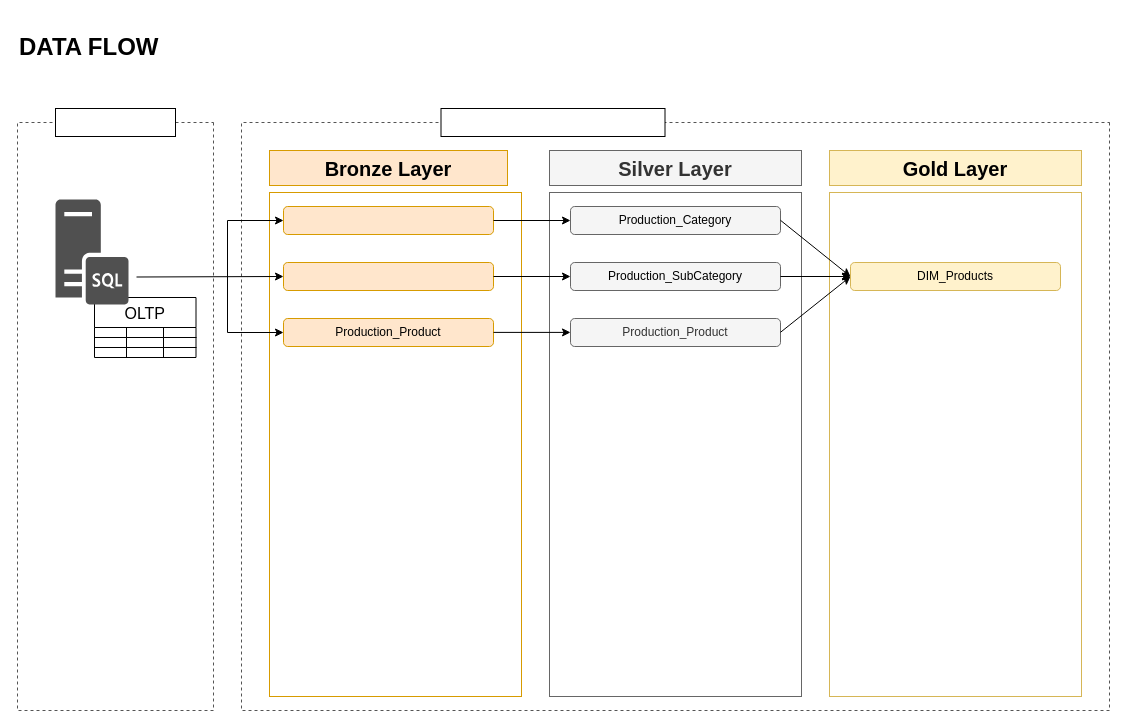
This 1127x728 diagram has some shape labels left out. The shapes that lost their labels are listed below. From the top down, each one's centre as x and y in pixels, then its label:
At point 115,122: "Sources".
At point 552,122: "Data Warehouse".
At point 388,220: "Production_ProductCategory".
At point 388,276: "Production_ProductSubcategory".
